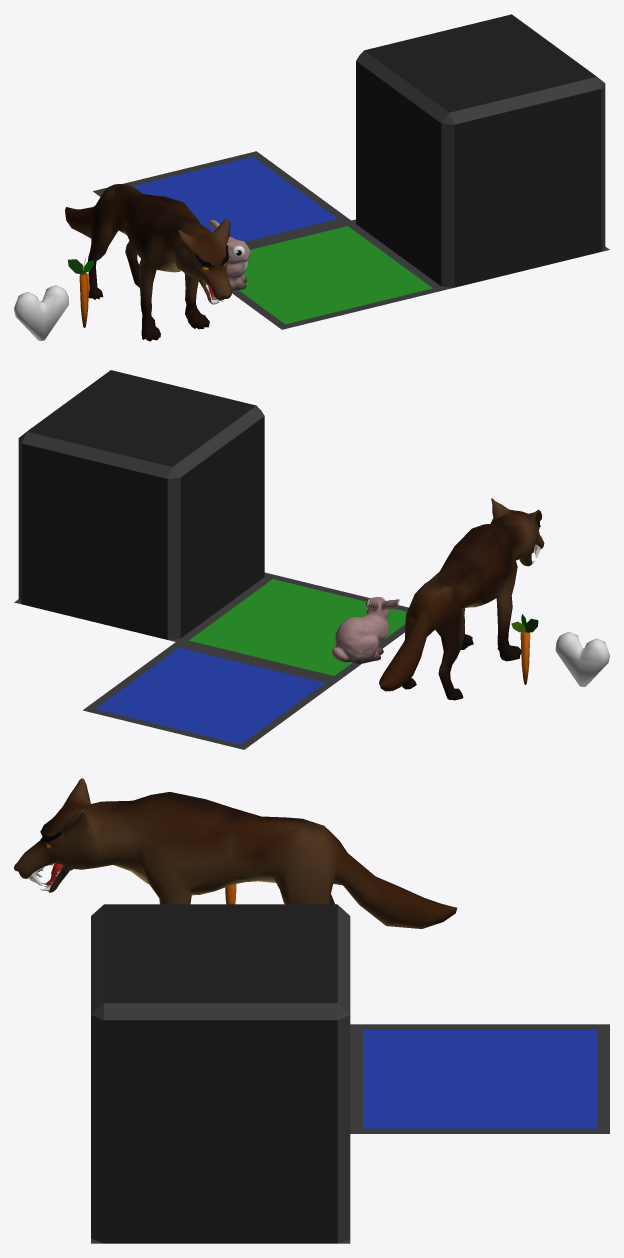
The model's file is BunnyEtAl.FBX.
The picture shows the model from 3 angles, top to bottom: view 1: azimuth 30°, elevation 25°; view 2: azimuth 150°, elevation 25°; view 3: azimuth 270°, elevation 25°; orthographic projection. The views are drawn at different scales.
Visible parts, largest first — view 1: Tile_Blocked, Tile_Grass, BigBadWolf, Tile_Water, Heart, CuteBunny, Carrot; view 2: Tile_Blocked, Tile_Water, BigBadWolf, Tile_Grass, CuteBunny, Heart, Carrot; view 3: Tile_Blocked, BigBadWolf, Tile_Water.
Boxes of the visible parts, x1,y1,x2,y2 form: Tile_Blocked: (351, 14, 609, 289); Tile_Grass: (232, 220, 445, 329); BigBadWolf: (65, 184, 232, 341); Tile_Water: (93, 151, 350, 245); Heart: (14, 285, 68, 340); CuteBunny: (208, 220, 250, 290); Carrot: (68, 258, 93, 327); Tile_Blocked: (14, 370, 268, 641); Tile_Water: (83, 642, 337, 749); BigBadWolf: (379, 498, 544, 700); Tile_Grass: (176, 573, 408, 681); CuteBunny: (332, 597, 399, 663); Heart: (555, 632, 609, 686); Carrot: (511, 614, 538, 684); Tile_Blocked: (91, 904, 350, 1243); BigBadWolf: (14, 778, 457, 928); Tile_Water: (350, 1024, 609, 1133).
Size of the model in its own units: 3.36 by 1 by 2.3.
